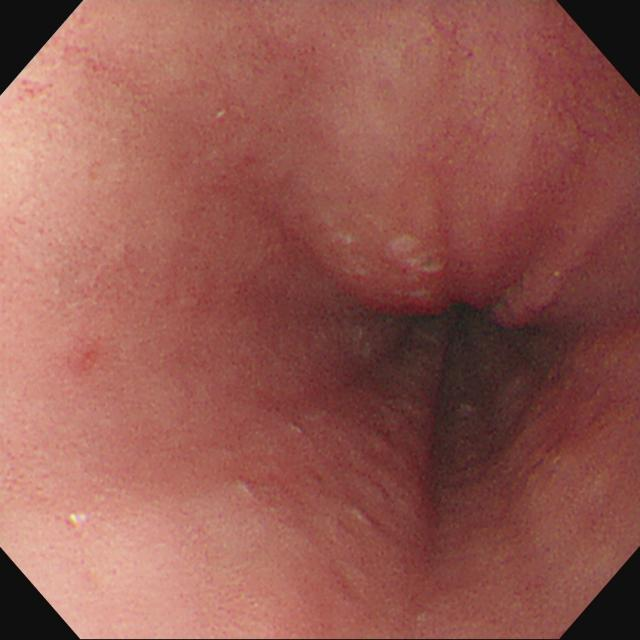E: (385, 278, 555, 445)
